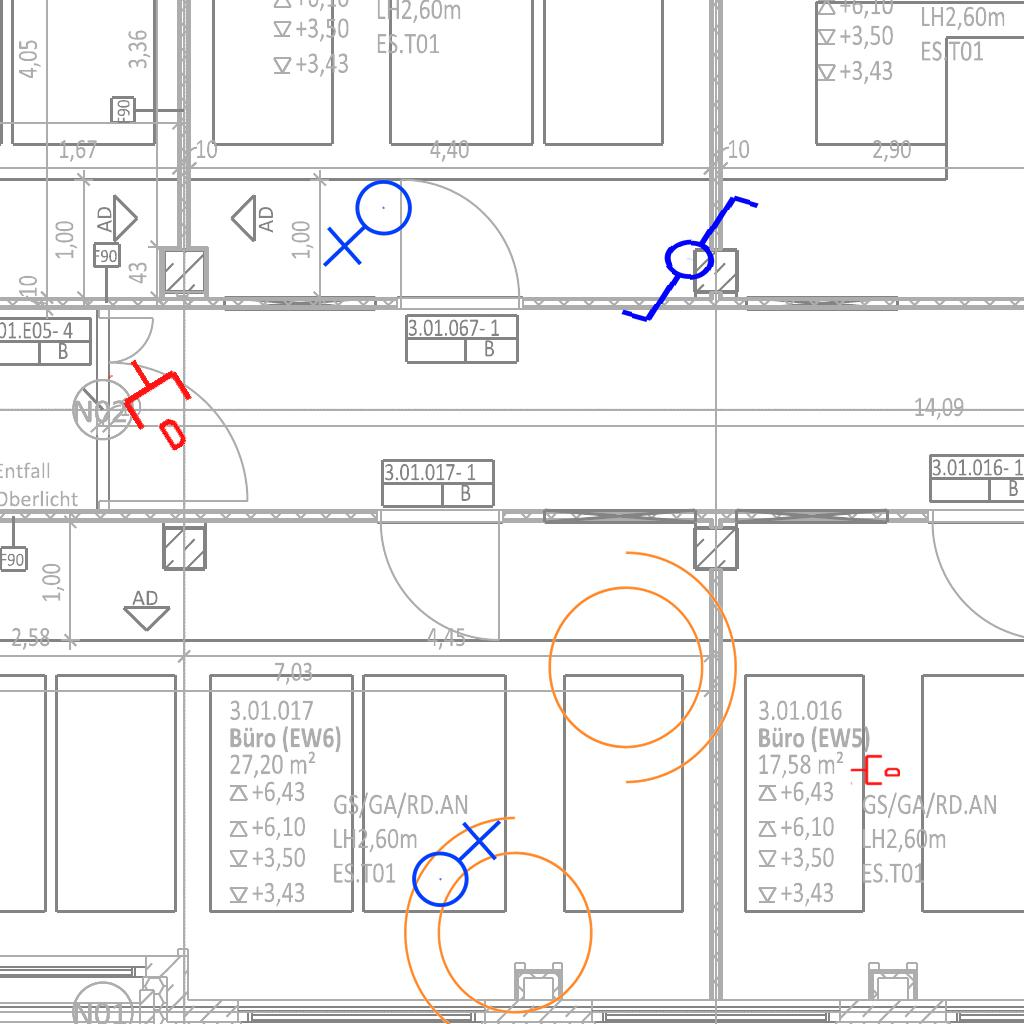Datenanschluss_einfach: (102, 341, 215, 463), (850, 753, 900, 787)
Elektroanschluss_allgemein_230V_Geraeteanschlussdose_230V: (322, 178, 421, 272), (403, 815, 502, 909)
Scheinwerfer_fuer_Alarmbeleuchtung: (523, 529, 748, 793), (393, 807, 618, 1024)
Wechselschalter: (599, 180, 764, 334)
